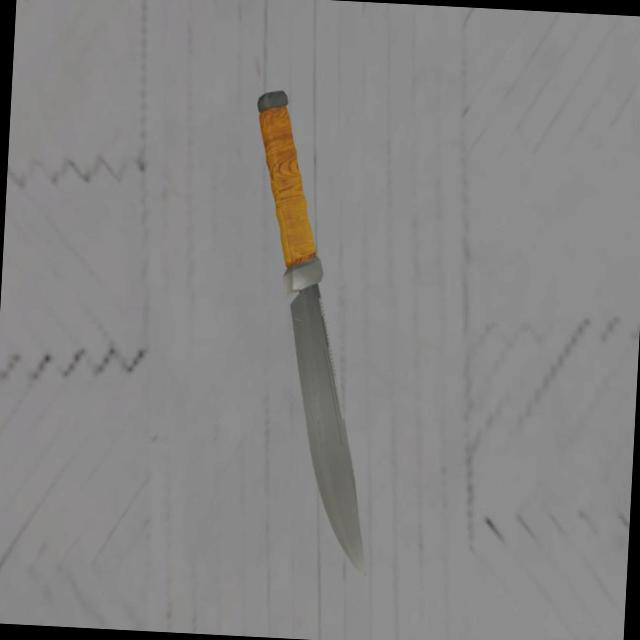knife: (252, 90, 330, 294)
